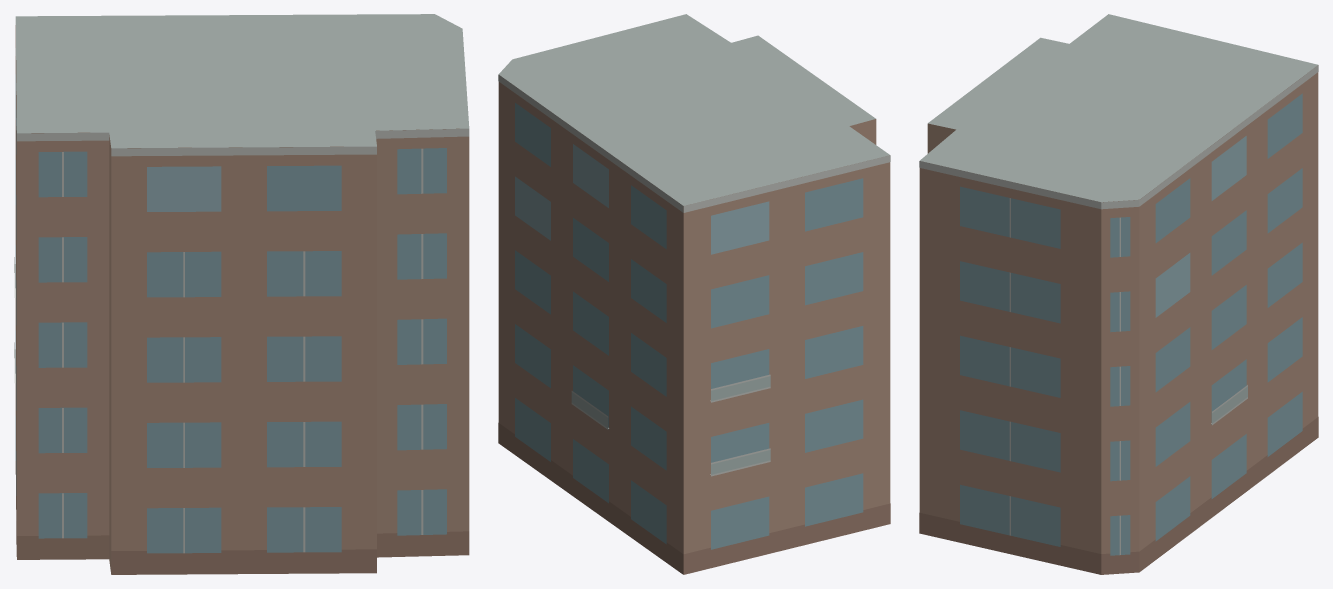
The model's file is survey-upis-32649163.glb.
3 views of the same model, side by side, from view 1: azimuth 30°, elevation 25°; view 2: azimuth 150°, elevation 25°; view 3: azimuth 270°, elevation 25° (orthographic). The views are drawn at different scales.
Visible parts, largest first — view 1: survey-upis-32649163.tmp; view 2: survey-upis-32649163.tmp; view 3: survey-upis-32649163.tmp.
Boxes of the visible parts, x1,y1,x2,y2 form: survey-upis-32649163.tmp: (14,14,469,574); survey-upis-32649163.tmp: (498,14,890,574); survey-upis-32649163.tmp: (919,14,1318,574).
Bounding box in the file's own units: 13.98 × 12.9 × 12.53.
